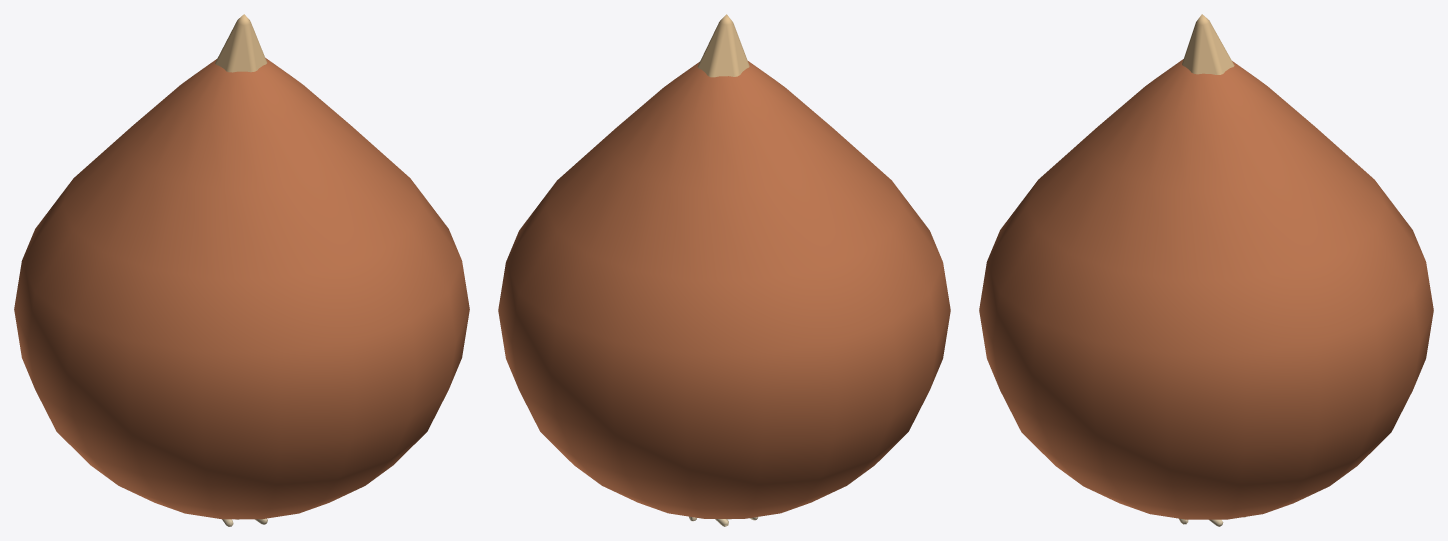
The model's file is Onion.glb.
3 renders of one model, left to right at view 1: azimuth 30°, elevation 25°; view 2: azimuth 150°, elevation 25°; view 3: azimuth 270°, elevation 25°, orthographic.
Visible parts, largest first — view 1: Onion; view 2: Onion; view 3: Onion.
Boxes of the visible parts, x1,y1,x2,y2 form: Onion: (14, 14, 469, 526); Onion: (498, 14, 950, 526); Onion: (979, 14, 1433, 526).
Size of the model in its own units: 0.1083 by 0.1327 by 0.11.
